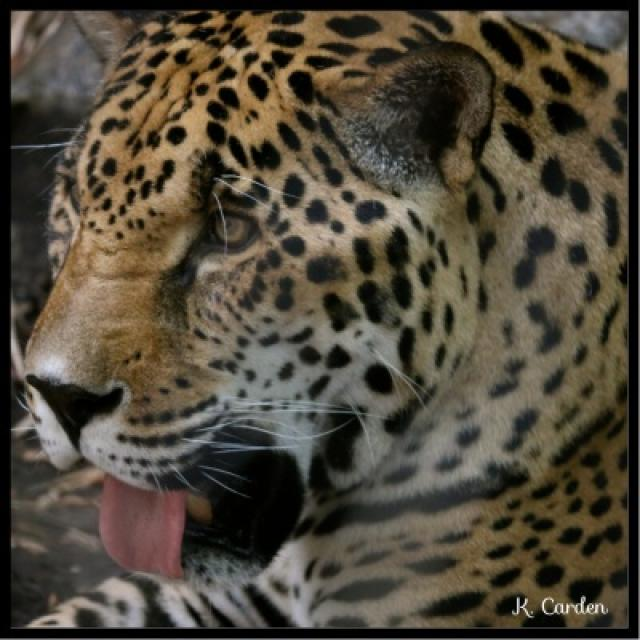Jaguar: (16, 10, 637, 637)
